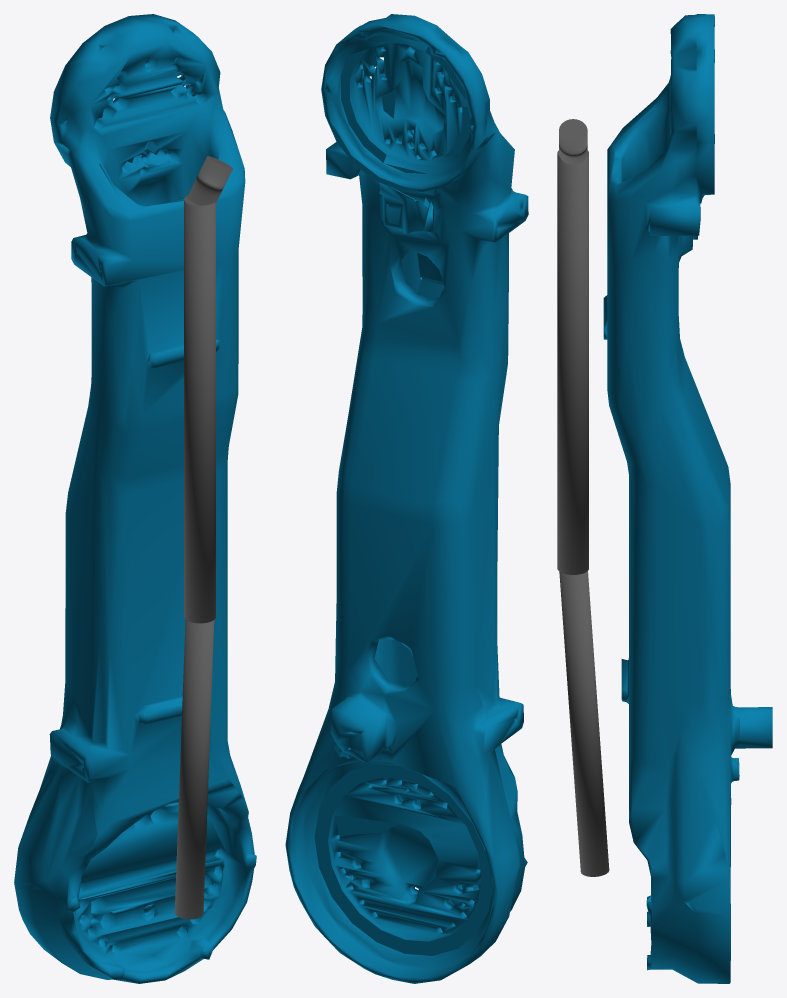
The picture shows the model from 3 angles, left to right: view 1: azimuth 30°, elevation 25°; view 2: azimuth 150°, elevation 25°; view 3: azimuth 270°, elevation 25°; orthographic projection.
Parts seen in each view (by area): view 1: mh50-35_lk2, link2, link2.001, link2.002; view 2: mh50-35_lk2; view 3: mh50-35_lk2, link2, link2.001, link2.002.
Part boxes in pixels (x1,y1,x2,y2): mh50-35_lk2: (14,14,256,983); link2: (184,195,215,623); link2.001: (174,619,214,919); link2.002: (187,156,232,205); mh50-35_lk2: (285,14,528,983); mh50-35_lk2: (603,14,772,983); link2: (557,150,588,574); link2.001: (559,571,609,876); link2.002: (559,119,587,164).
Size of the model in its own units: 0.3407 by 0.2964 by 1.45.
